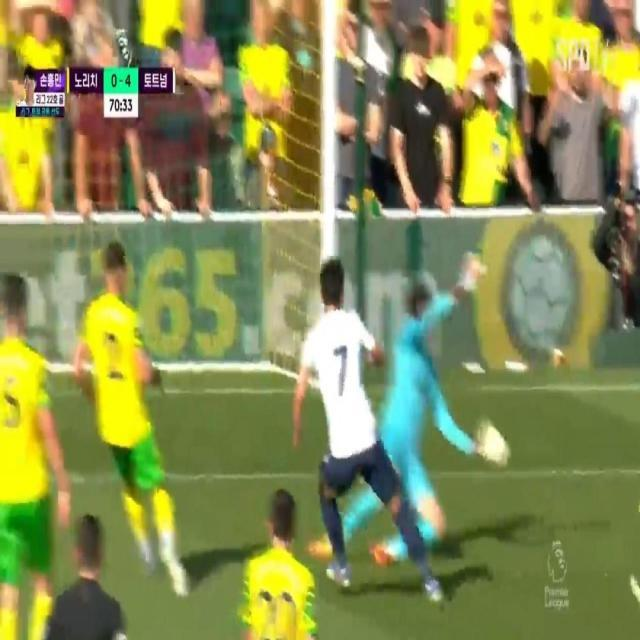goalkeeper: (311, 235, 510, 566)
player: (312, 253, 382, 609), (80, 230, 169, 506), (0, 266, 57, 640), (241, 482, 330, 640)
referee: (53, 518, 123, 640)
